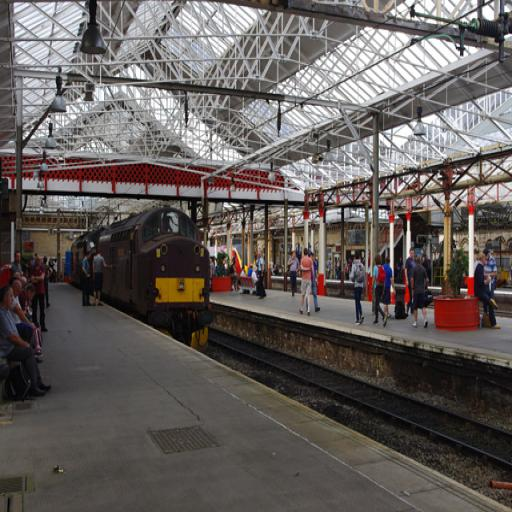platform_edge: (309, 418, 512, 512), (148, 338, 296, 410)
